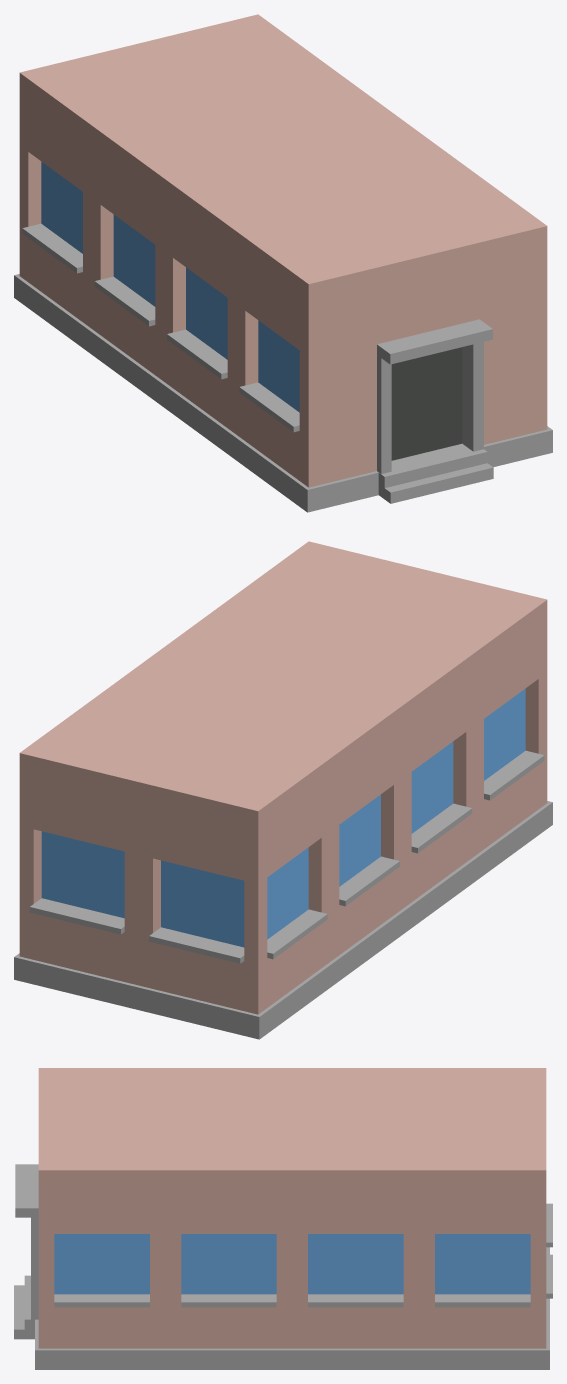
Rendered from building_1x2_1_g.glb.
3 views of the same model, one above another, from view 1: azimuth 30°, elevation 25°; view 2: azimuth 150°, elevation 25°; view 3: azimuth 270°, elevation 25° (orthographic). The views are drawn at different scales.
Parts seen in each view (by area): view 1: Cube; view 2: Cube; view 3: Cube.
Boxes of the visible parts, bbox=[...] form: Cube: bbox=[14, 14, 552, 512]; Cube: bbox=[14, 541, 552, 1039]; Cube: bbox=[14, 1068, 552, 1369].
Bounding box in the file's own units: 1.86 × 1.6 × 3.94.
